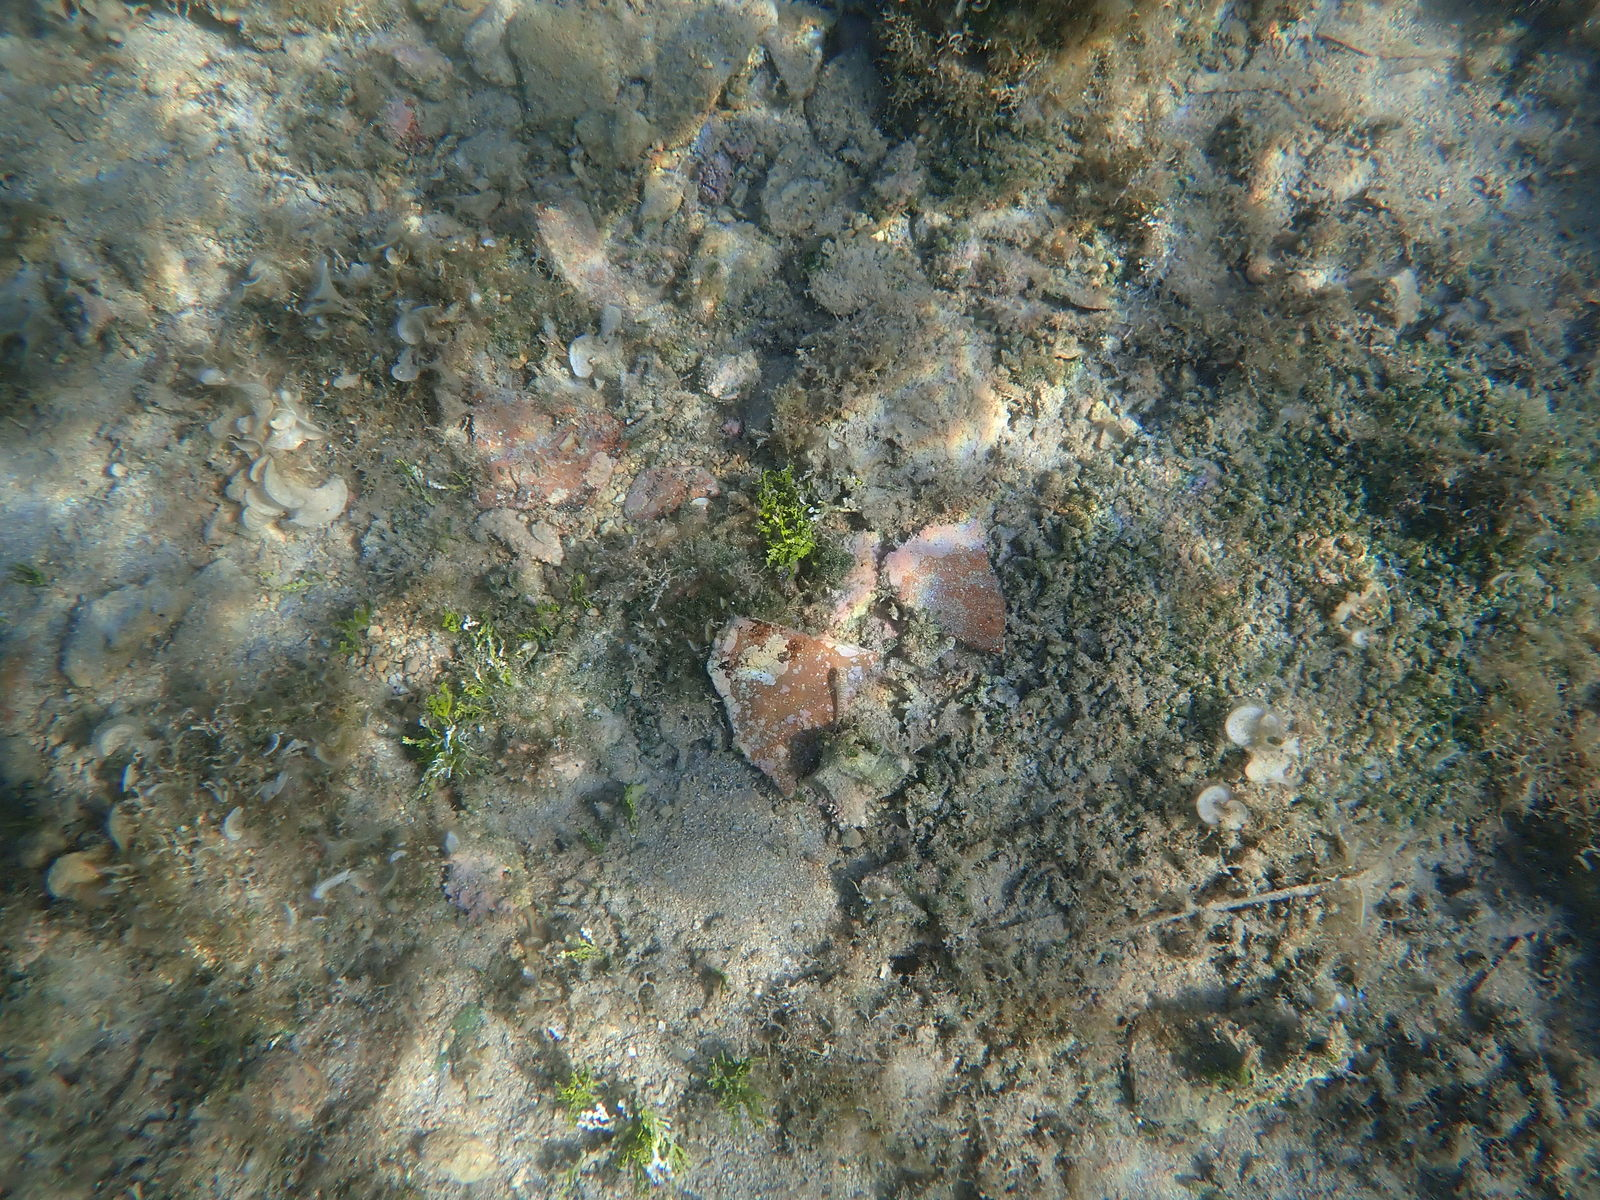halimeda: (752, 468, 823, 584), (421, 684, 462, 797), (553, 1059, 609, 1129), (711, 1055, 762, 1131), (472, 613, 514, 684), (631, 1097, 659, 1197), (396, 454, 433, 509), (558, 926, 598, 961), (561, 570, 593, 610), (425, 471, 472, 493), (624, 784, 643, 828), (456, 700, 491, 720), (615, 1127, 630, 1171), (403, 732, 436, 753), (580, 826, 602, 855), (661, 1116, 673, 1174), (522, 624, 559, 640), (333, 618, 363, 638), (671, 1143, 692, 1174), (534, 597, 562, 619), (464, 678, 489, 700), (273, 580, 321, 590), (333, 642, 363, 655), (442, 609, 459, 633), (353, 605, 367, 620)
